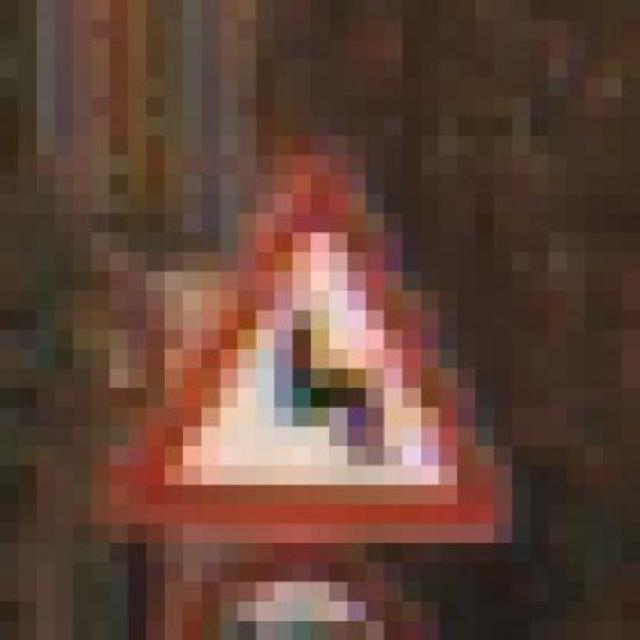Left Zig Zag Traffic: (72, 135, 512, 543)
